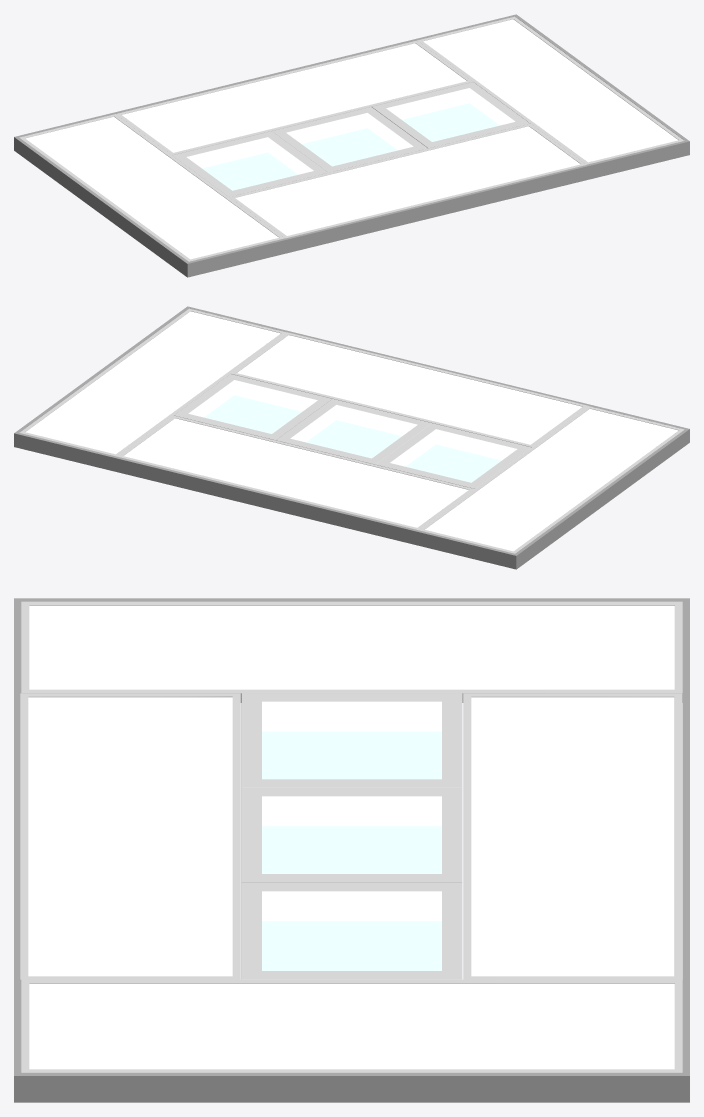
The model's file is nature-connect-AR-flipped.glb.
3 renders of one model, top to bottom at view 1: azimuth 30°, elevation 25°; view 2: azimuth 150°, elevation 25°; view 3: azimuth 270°, elevation 25°, orthographic. The views are drawn at different scales.
Visible parts, largest first — view 1: Island1.001; view 2: Island1.001; view 3: Island1.001.
Boxes of the visible parts, x1,y1,x2,y2 form: Island1.001: [14, 14, 689, 277]; Island1.001: [14, 306, 689, 569]; Island1.001: [14, 598, 689, 1102].
Size of the model in its own units: 3.08 by 0.14 by 1.84.
